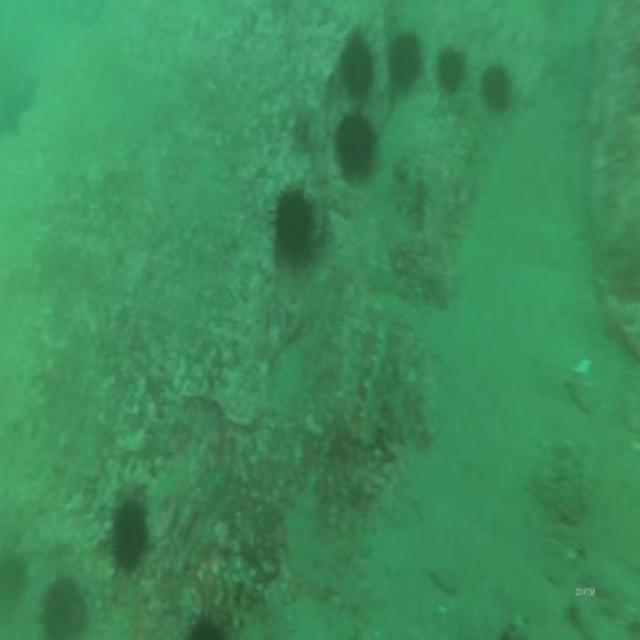echinus: (102, 491, 154, 580), (268, 185, 322, 270), (33, 570, 96, 640), (334, 104, 380, 185), (337, 28, 377, 108), (386, 27, 426, 93), (476, 57, 514, 118), (434, 41, 468, 103), (183, 600, 234, 640)
holothurian: (358, 310, 398, 454), (414, 153, 454, 264)
